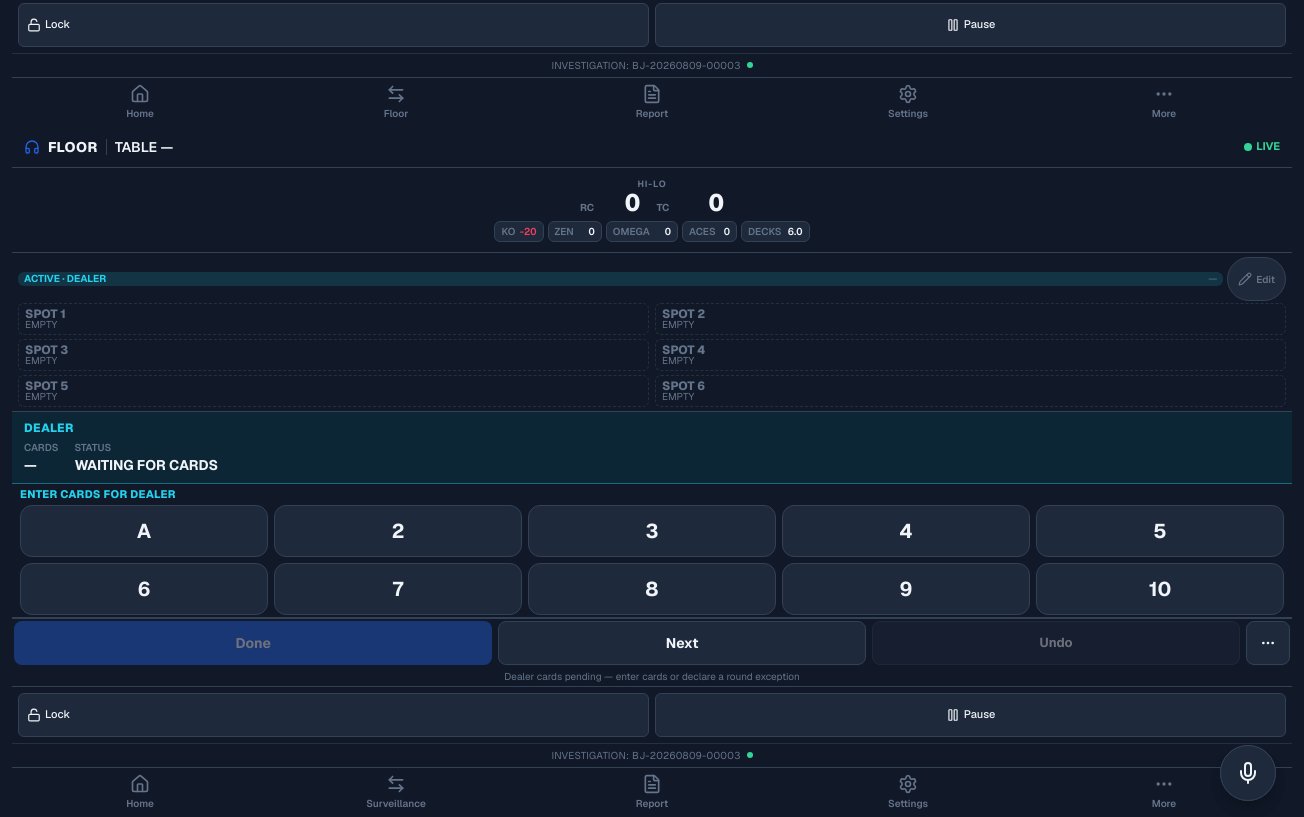
FloorScreen and LiveScreen share the same underlying investigation/ledger › a card entered through Floor's keypad is immediately reflected in Surveillance's count — one investigation, one CardEvent ledger, not two
The width and height of the screenshot is (1304, 817).
(page scrolled)
Check: the text named "HI-LO running count" reads "0", box [625,187,640,218]
Note: Enter a card through Floor's own keypad, not Surveillance's.
Click the button "A": (144, 530) [20,504,268,556]
(page scrolled)
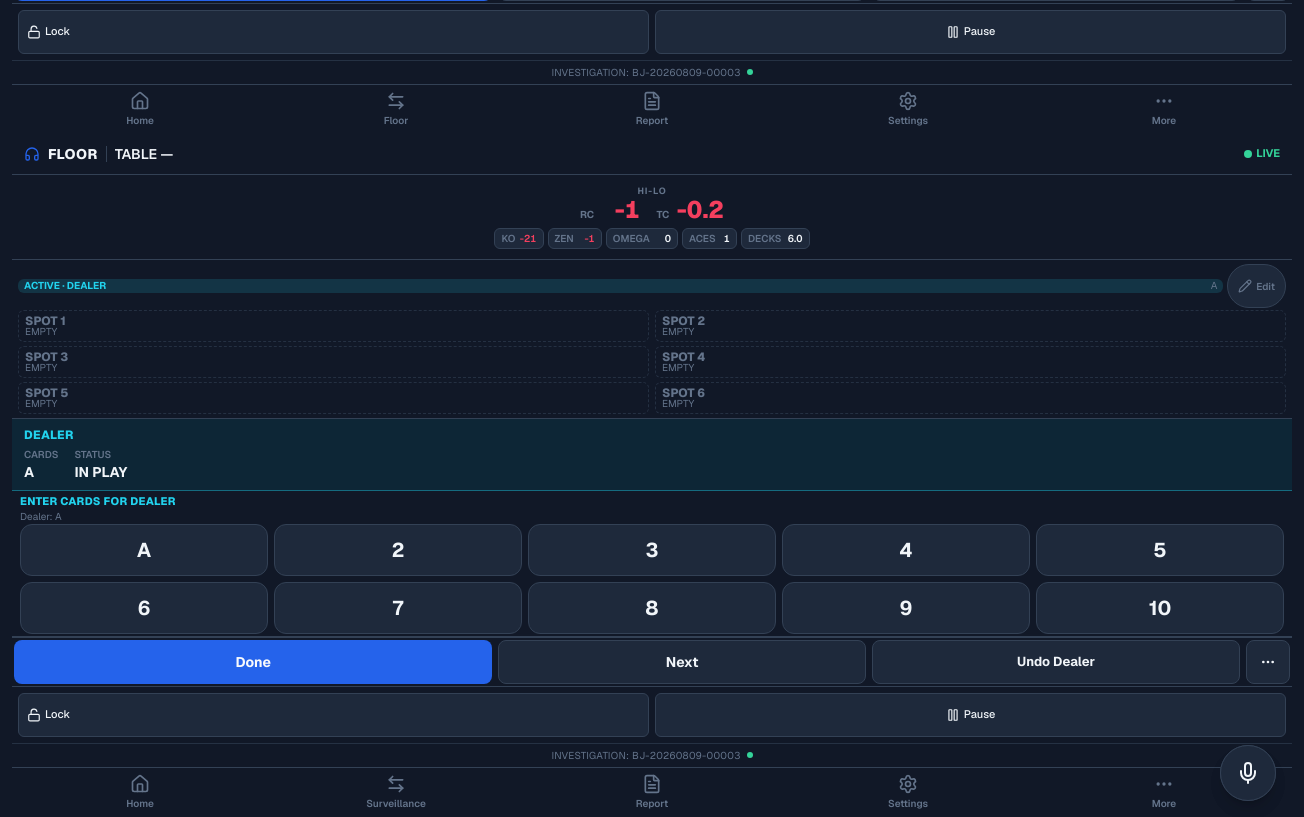
Check: the text named "HI-LO running count" reads "-1", box [615,194,640,225]
